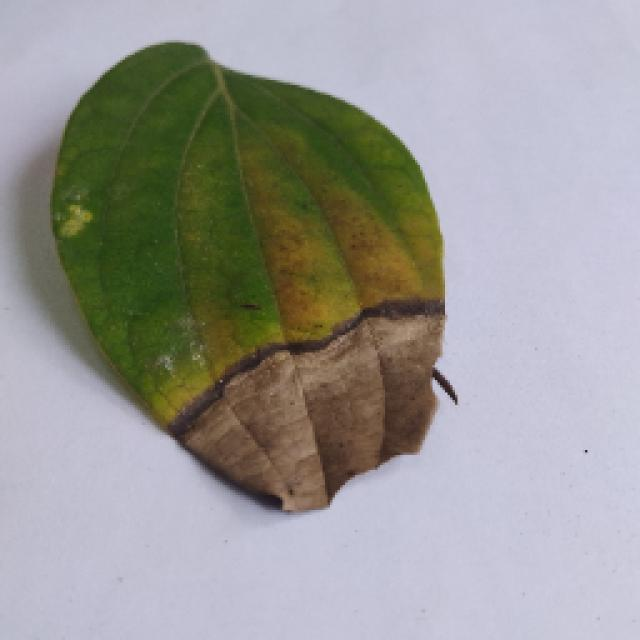footrot: (50, 42, 450, 510)
